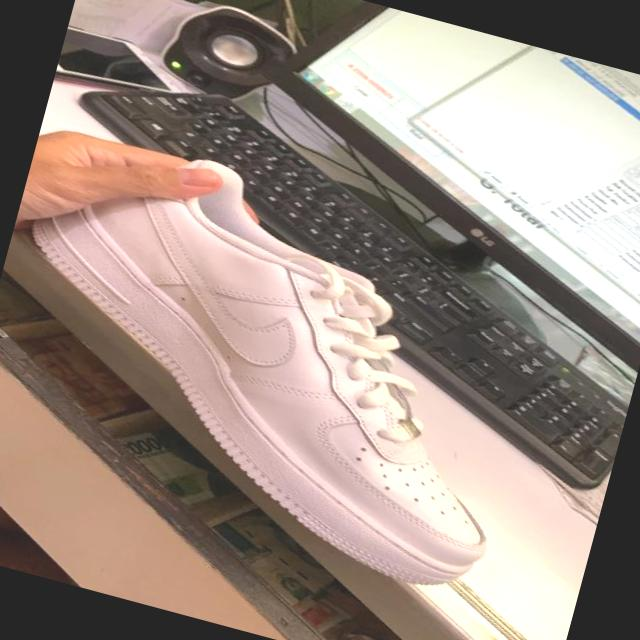nike_original_airforce: (0, 118, 569, 604)
